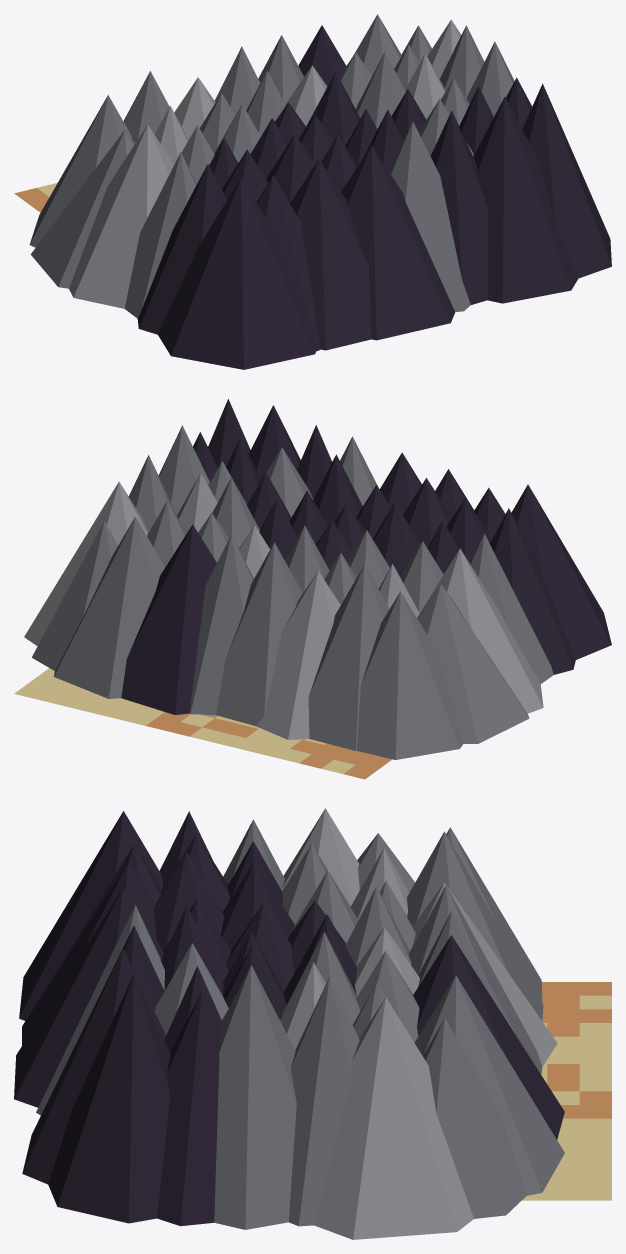
Rendered from chunk_11_23.glb.
The picture shows the model from 3 angles, top to bottom: view 1: azimuth 30°, elevation 25°; view 2: azimuth 150°, elevation 25°; view 3: azimuth 270°, elevation 25°; orthographic projection. The views are drawn at different scales.
Parts seen in each view (by area): view 1: chunk_11_23; view 2: chunk_11_23; view 3: chunk_11_23.
Part boxes in pixels (x1=…): chunk_11_23: x1=14, y1=14, x2=611, y2=369; chunk_11_23: x1=14, y1=399, x2=611, y2=779; chunk_11_23: x1=14, y1=808, x2=611, y2=1239.
Size of the model in its own units: 21.66 by 7.73 by 18.51.
